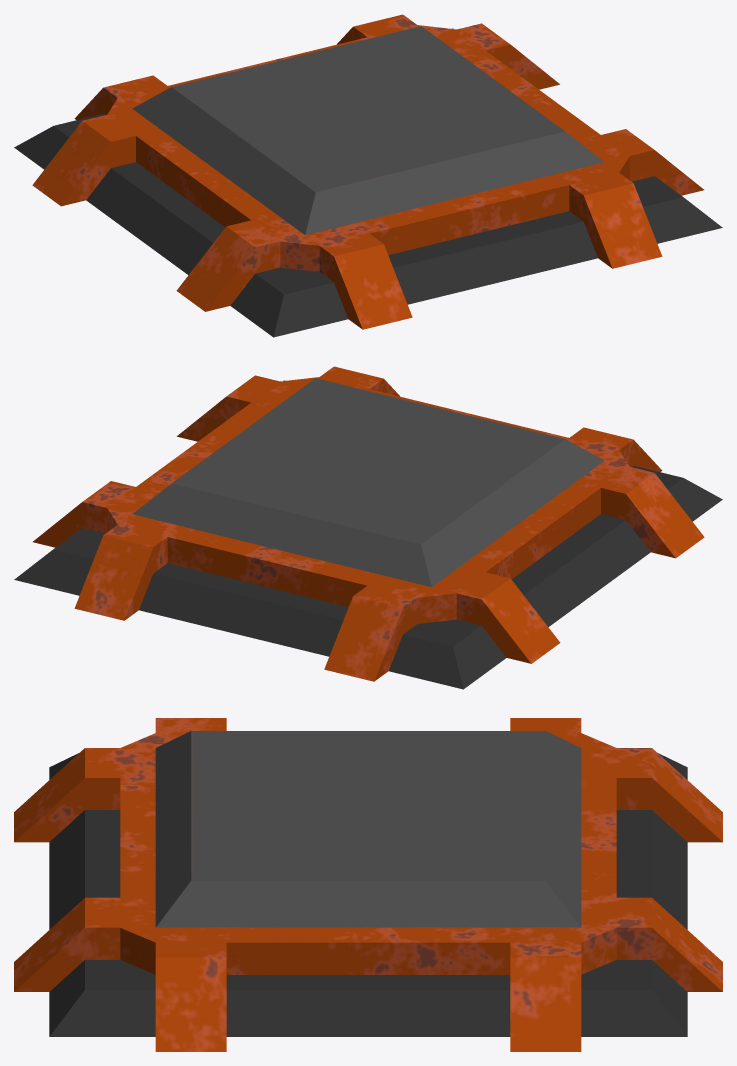
The model's file is TowerStructure.glb.
The picture shows the model from 3 angles, top to bottom: view 1: azimuth 30°, elevation 25°; view 2: azimuth 150°, elevation 25°; view 3: azimuth 270°, elevation 25°; orthographic projection. The views are drawn at different scales.
Visible parts, largest first — view 1: TowerStructure; view 2: TowerStructure; view 3: TowerStructure.
Boxes of the visible parts, <box> form: TowerStructure: <box>14,14,722,337</box>; TowerStructure: <box>14,366,722,689</box>; TowerStructure: <box>14,718,722,1051</box>.
Bounding box in the file's own units: 2 × 0.3 × 2.
1 material, 1 textured.
